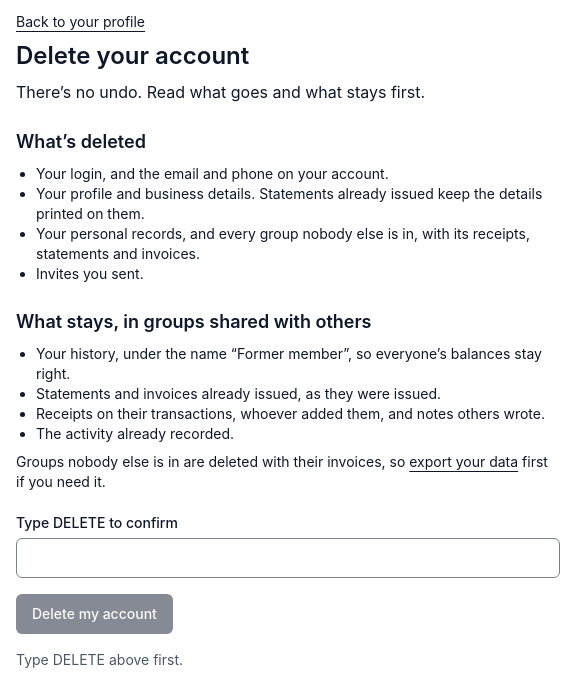
Scenario: DeleteAccountPage › says the rest goes within the hour when the job finishes it
Type "DELETE" into the field labelled "Type DELETE to confirm". click: [288, 558]
box: left=16, top=538, right=560, bottom=578
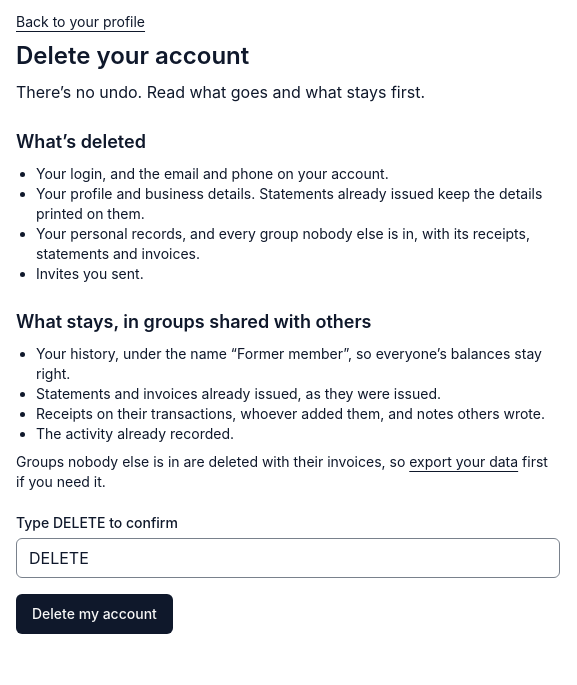
Click the button "Delete my account". click: [94, 614]
box: left=16, top=594, right=173, bottom=634
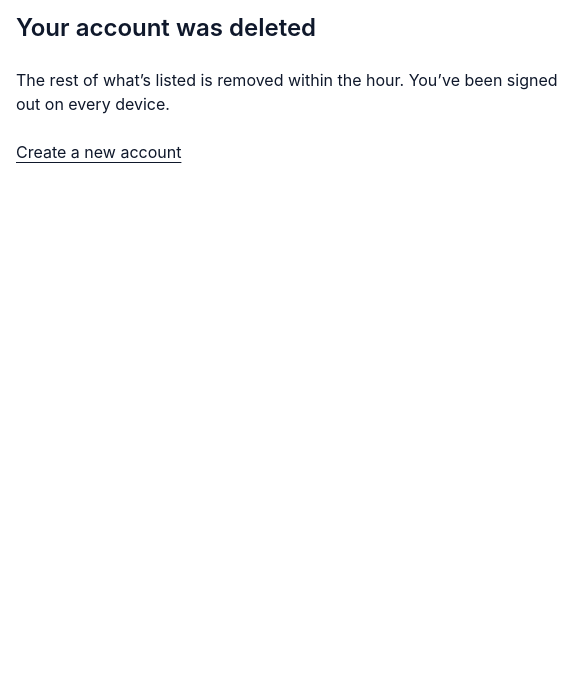
Check: the text "removed within the hour" is shown, box left=16, top=70, right=404, bottom=90
